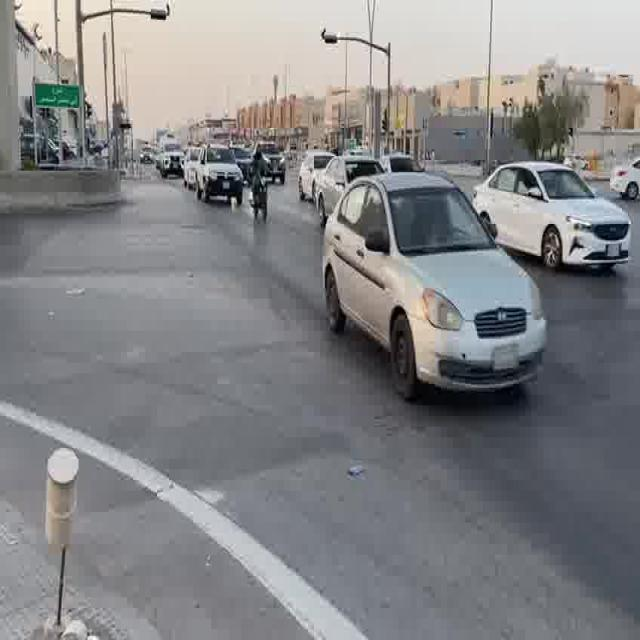bus: (322, 168, 551, 402), (473, 163, 633, 275), (315, 156, 388, 219), (197, 149, 244, 202), (297, 152, 335, 198), (213, 146, 252, 189), (610, 164, 640, 202), (257, 147, 287, 183), (184, 147, 208, 191), (232, 146, 257, 183), (385, 153, 423, 172), (164, 153, 184, 177), (139, 153, 152, 165)
car: (179, 209, 640, 640), (322, 168, 551, 402), (473, 163, 633, 275), (315, 156, 388, 219), (197, 149, 244, 202), (297, 152, 335, 198), (213, 146, 252, 189), (610, 164, 640, 202), (257, 147, 287, 183), (184, 147, 208, 191), (232, 146, 257, 183), (385, 153, 423, 172), (164, 153, 184, 177), (139, 153, 152, 165)
lanes: (179, 209, 640, 640), (226, 209, 639, 634)
lanes2: (226, 209, 639, 634), (260, 205, 640, 474)
lanes3: (260, 205, 640, 474), (286, 201, 640, 404)
lanes4: (286, 201, 640, 404), (327, 192, 640, 313)
lanes5: (327, 192, 640, 313)
